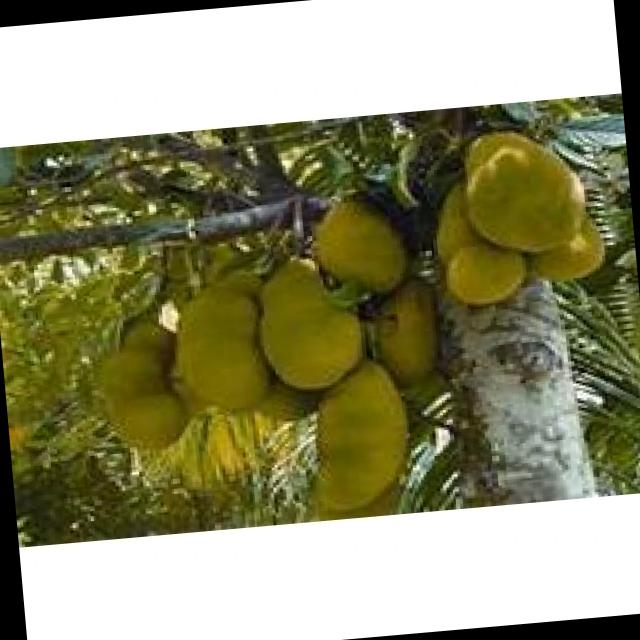Fruit: (147, 232, 390, 439)
